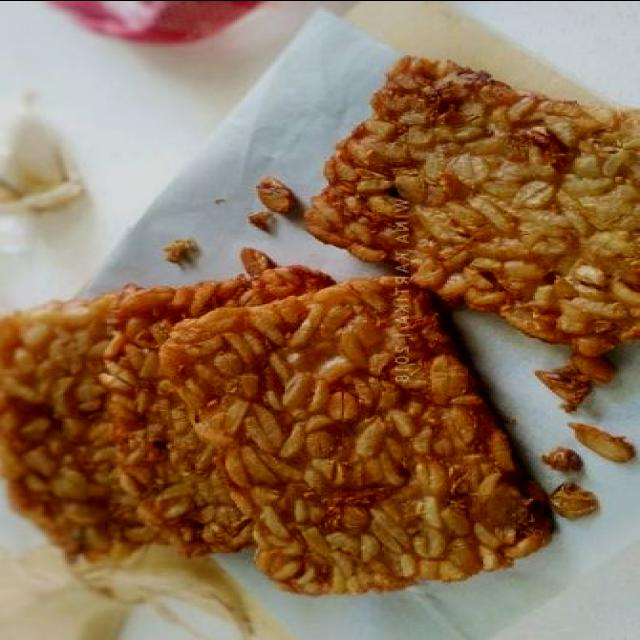tempe goreng: (159, 277, 556, 595), (304, 54, 640, 394)
